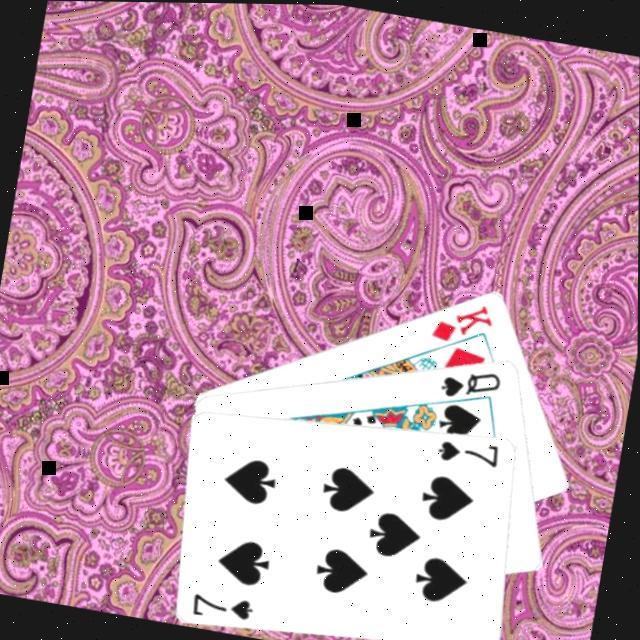7S: (435, 431, 505, 472), (189, 588, 260, 628)
KD: (428, 292, 500, 352)
QS: (437, 360, 508, 408)
